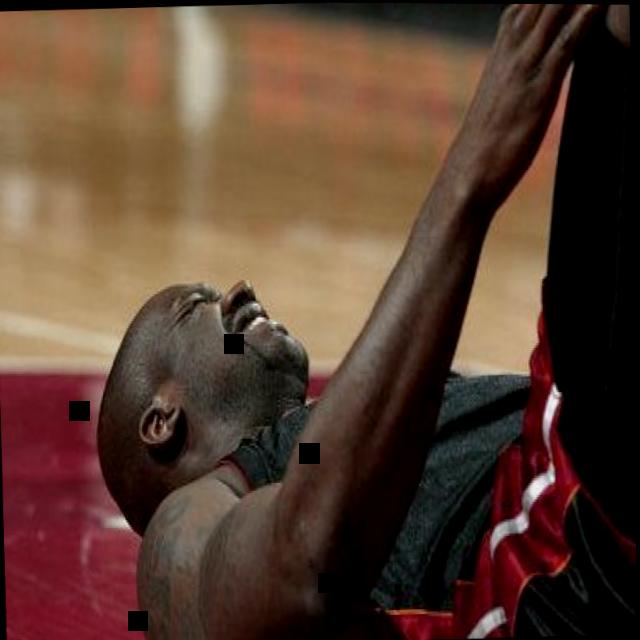Fall-Detected: (40, 0, 640, 640)
